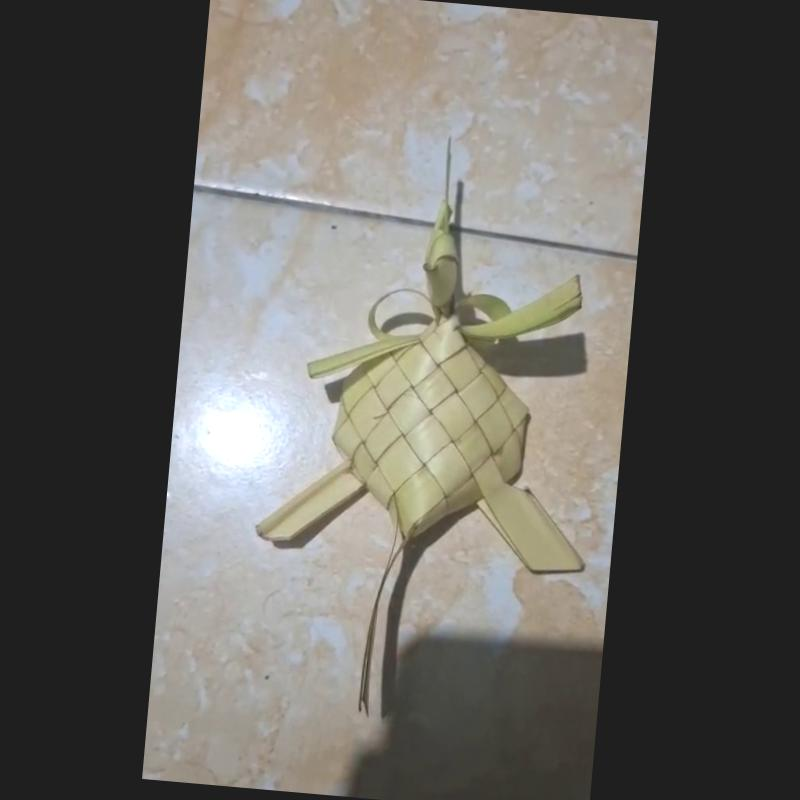Tipat Dampulan: (255, 153, 605, 713)
